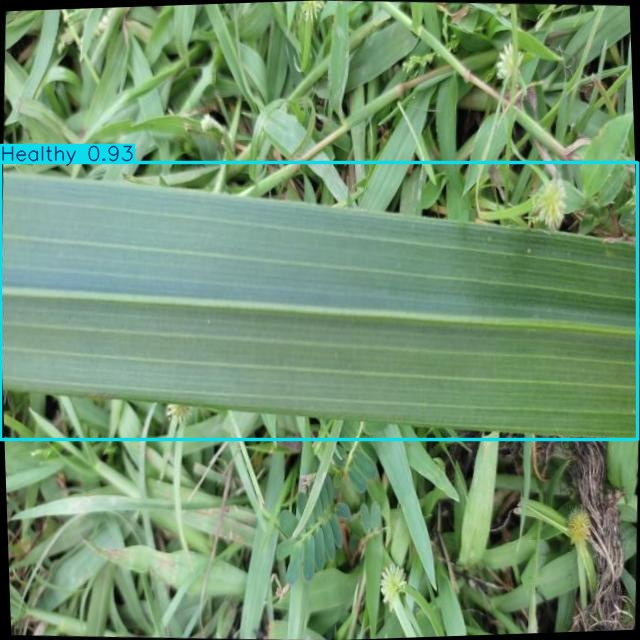Healthy: (0, 162, 637, 439)
